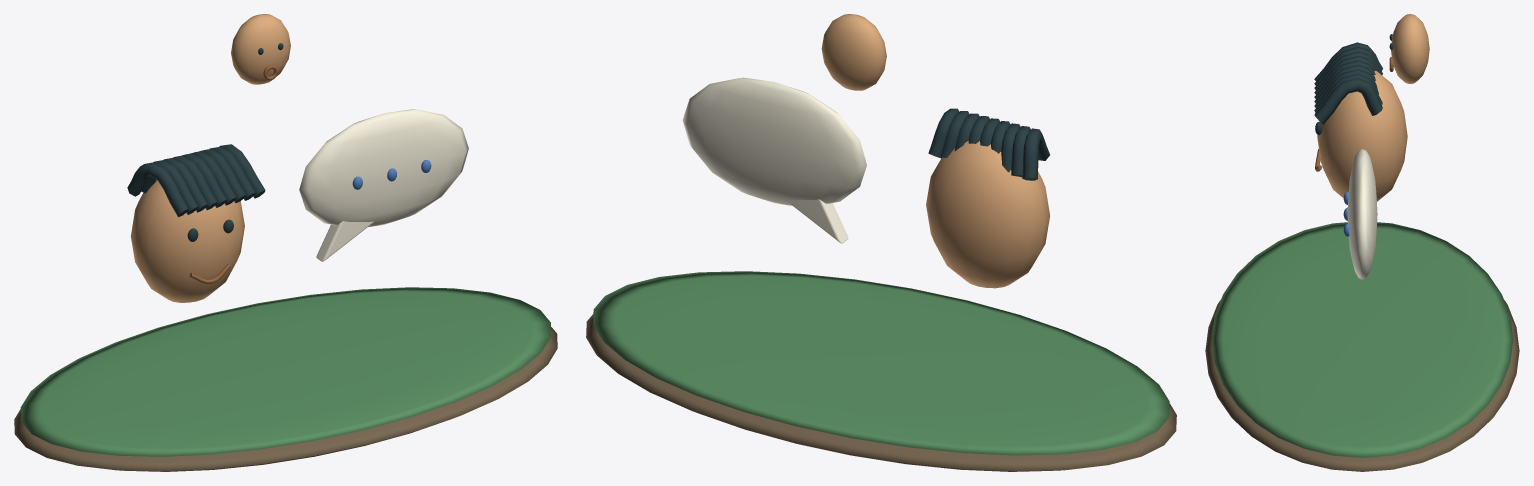
The model's file is complete-third-laughing-talk.glb.
3 renders of one model, left to right at view 1: azimuth 30°, elevation 25°; view 2: azimuth 150°, elevation 25°; view 3: azimuth 270°, elevation 25°, orthographic. The views are drawn at different scales.
Visible parts, largest first — view 1: complete-third-laughing-talk_surface_01, complete-third-laughing-talk_surface_05, complete-third-laughing-talk_surface_02, complete-third-laughing-talk_surface_00, complete-third-laughing-talk_surface_03; view 2: complete-third-laughing-talk_surface_01, complete-third-laughing-talk_surface_05, complete-third-laughing-talk_surface_02, complete-third-laughing-talk_surface_00, complete-third-laughing-talk_surface_03; view 3: complete-third-laughing-talk_surface_01, complete-third-laughing-talk_surface_02, complete-third-laughing-talk_surface_00, complete-third-laughing-talk_surface_03, complete-third-laughing-talk_surface_05.
Part boxes in pixels (box(x1,y1,x2,y2)): complete-third-laughing-talk_surface_01: box(20, 287, 551, 456); complete-third-laughing-talk_surface_05: box(299, 109, 468, 261); complete-third-laughing-talk_surface_02: box(130, 14, 290, 302); complete-third-laughing-talk_surface_00: box(14, 327, 557, 471); complete-third-laughing-talk_surface_03: box(127, 43, 283, 241); complete-third-laughing-talk_surface_01: box(593, 271, 1169, 455); complete-third-laughing-talk_surface_05: box(682, 77, 866, 243); complete-third-laughing-talk_surface_02: box(821, 14, 1049, 288); complete-third-laughing-talk_surface_00: box(586, 314, 1176, 471); complete-third-laughing-talk_surface_03: box(928, 108, 1049, 180); complete-third-laughing-talk_surface_01: box(1211, 222, 1513, 457); complete-third-laughing-talk_surface_02: box(1317, 14, 1429, 201); complete-third-laughing-talk_surface_00: box(1205, 300, 1519, 471); complete-third-laughing-talk_surface_03: box(1314, 34, 1393, 135); complete-third-laughing-talk_surface_05: box(1347, 149, 1377, 279).
Bounding box in the file's own units: 4.56 × 3.07 × 2.5.
